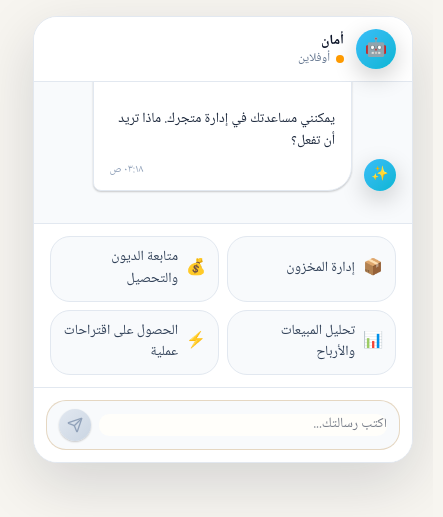
UnifiedAIChat offline fallback › answers in a local Palestinian Arabic tone
(page scrolled)
Type "شو عم يصير؟" into the field with placeholder "اكتب رسالتك..." at (243, 425), box top-left (99, 414), bottom-right (387, 436)
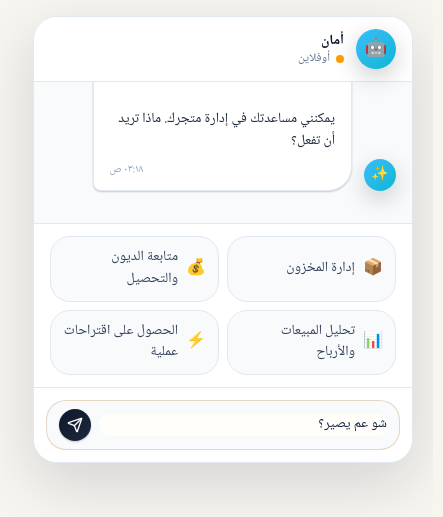
Click the button named "إرسال" at (75, 425), box top-left (59, 409), bottom-right (91, 441)
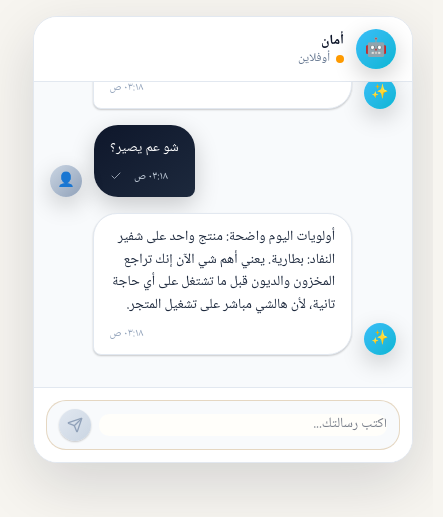
Expected: the text "شو عم يصير؟" is shown, top-left (110, 137), bottom-right (179, 160)
